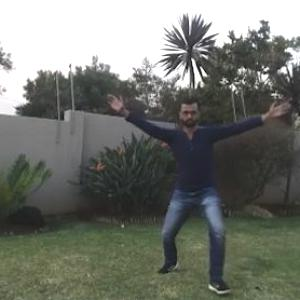takeoff: (110, 83, 293, 266)
